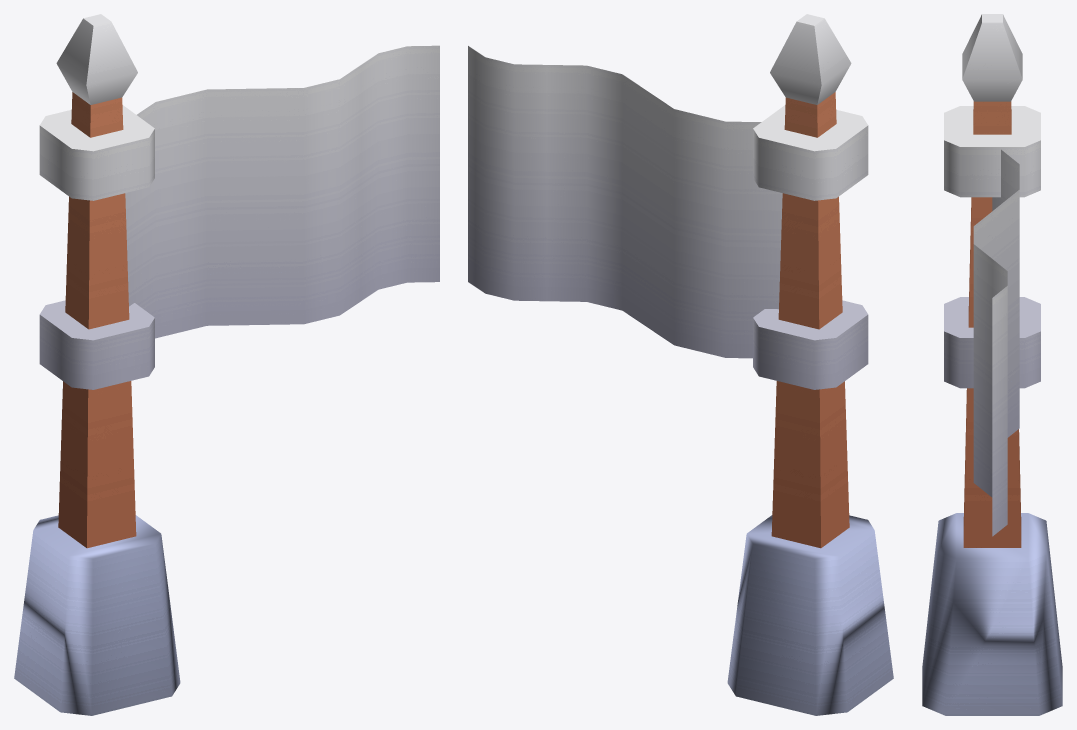
The model's file is Flag.glb.
3 views of the same model, side by side, from view 1: azimuth 30°, elevation 25°; view 2: azimuth 150°, elevation 25°; view 3: azimuth 270°, elevation 25° (orthographic).
Parts seen in each view (by area): view 1: flag; view 2: flag; view 3: flag.
Part boxes in pixels (box(x1,y1,x2,y2)): flag: box(14, 14, 439, 715); flag: box(468, 14, 893, 715); flag: box(922, 14, 1062, 715).
Size of the model in its own units: 1.34 by 2.1 by 0.3989.
Materials: 3 (3 with a texture image).
